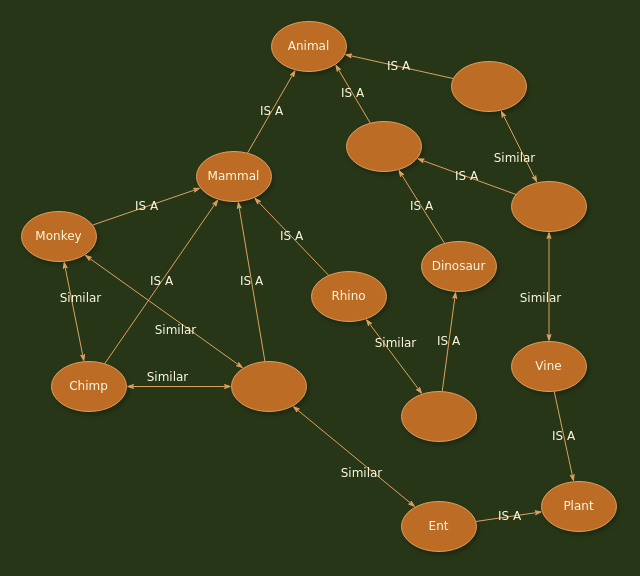
The diagram is 640 pixels wide and 576 high, and some of its shapes have lost their labels. Each missing label, with the centre of its shape:
Earthworm: point (489, 87)
Human: point (269, 387)
Reptile: point (385, 147)
Snake: point (549, 207)
Triceratops: point (439, 417)
